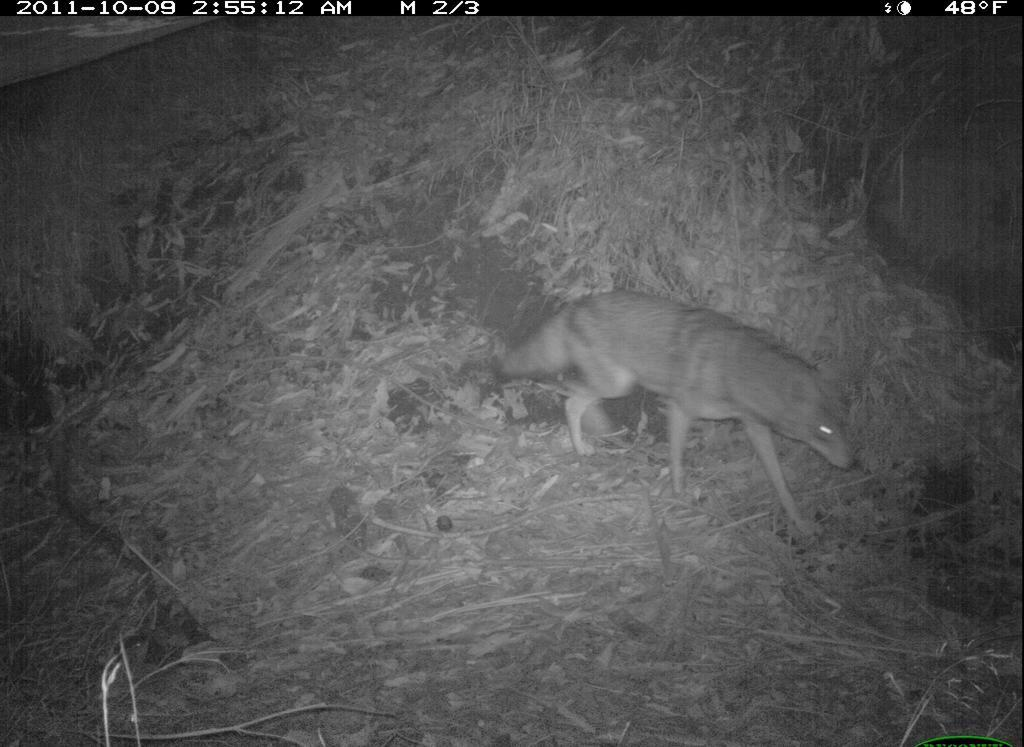coyote: (493, 286, 867, 543)
